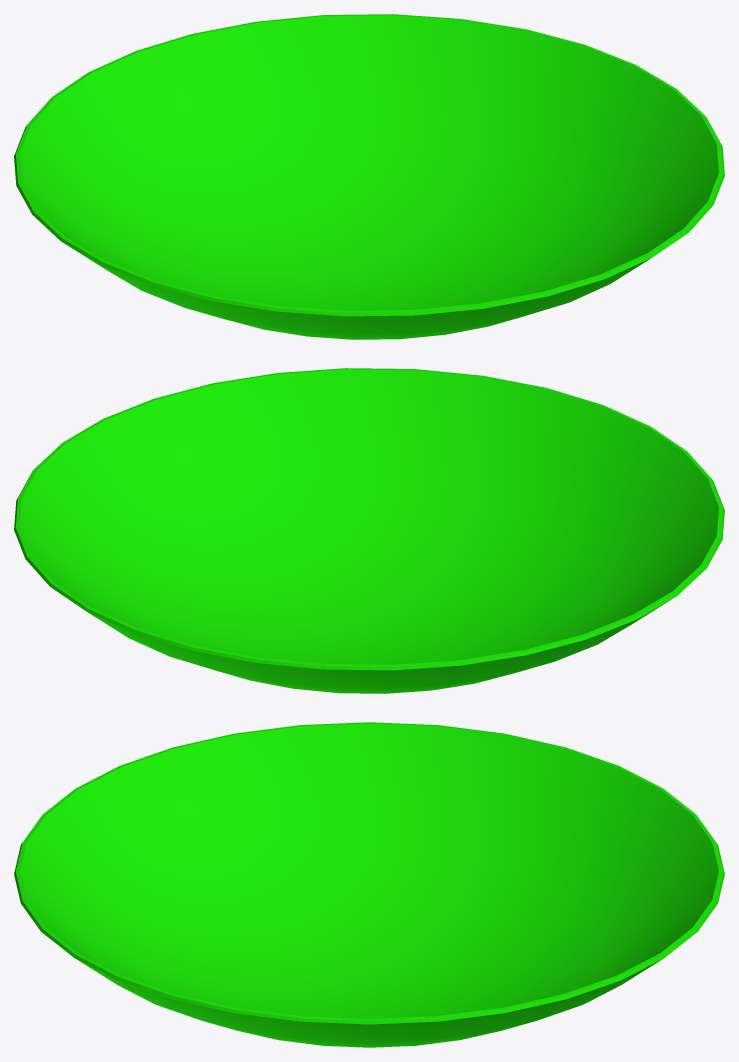
File: komono17.fbx
3 views of the same model, one above another, from view 1: azimuth 30°, elevation 25°; view 2: azimuth 150°, elevation 25°; view 3: azimuth 270°, elevation 25° (orthographic).
Visible parts, largest first — view 1: Sphere; view 2: Sphere; view 3: Sphere.
Boxes of the visible parts, <box> form: Sphere: <box>14,14,724,339</box>; Sphere: <box>14,368,724,693</box>; Sphere: <box>14,722,724,1047</box>.
Size of the model in its own units: 169 by 31.72 by 169.
